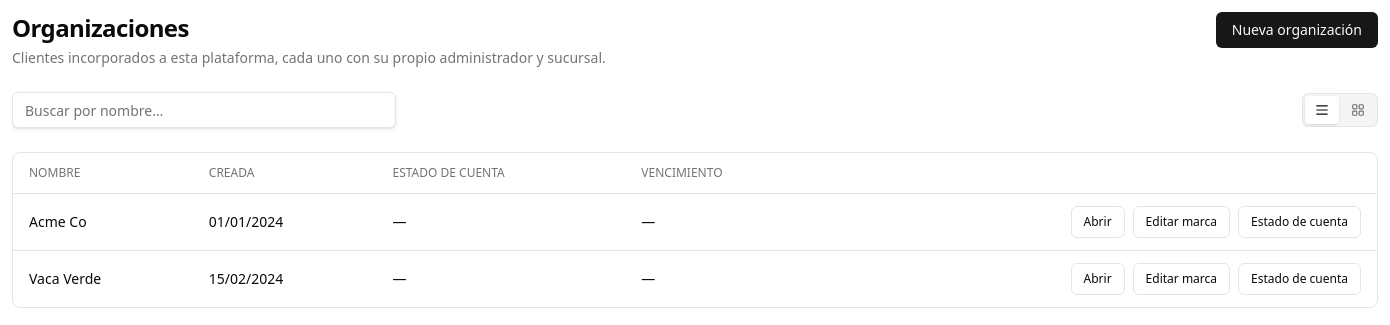
Test: OrganizationsScreen › filters the listed organizations client-side by name
The image size is (1390, 325).
Expected: the text "Acme Co" is shown, [13,194,193,250]
Expected: the text "Vaca Verde" is shown, [13,250,193,307]
Type "vaca" into the search field named "buscar organizaciones". click: (204, 110)
box: [12,92,396,128]
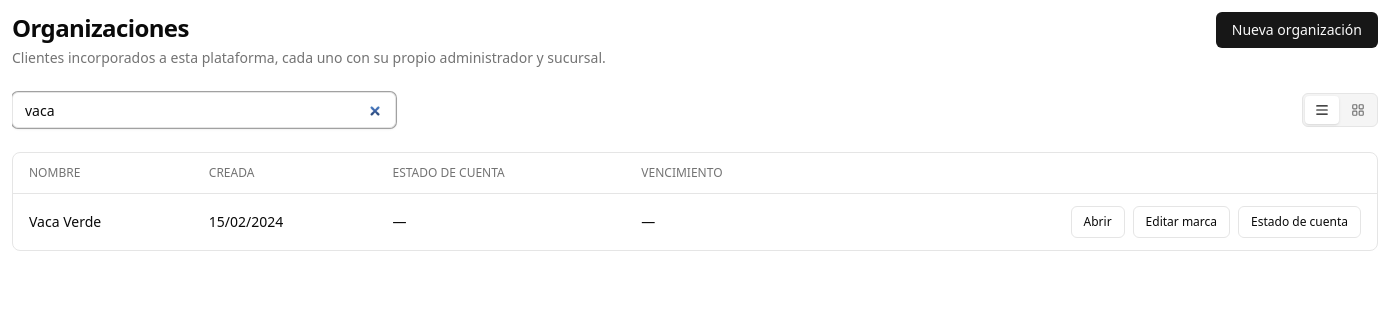
Expected: the text "Vaca Verde" is shown, [13,194,193,250]
Now the text "Acme Co" is gone
